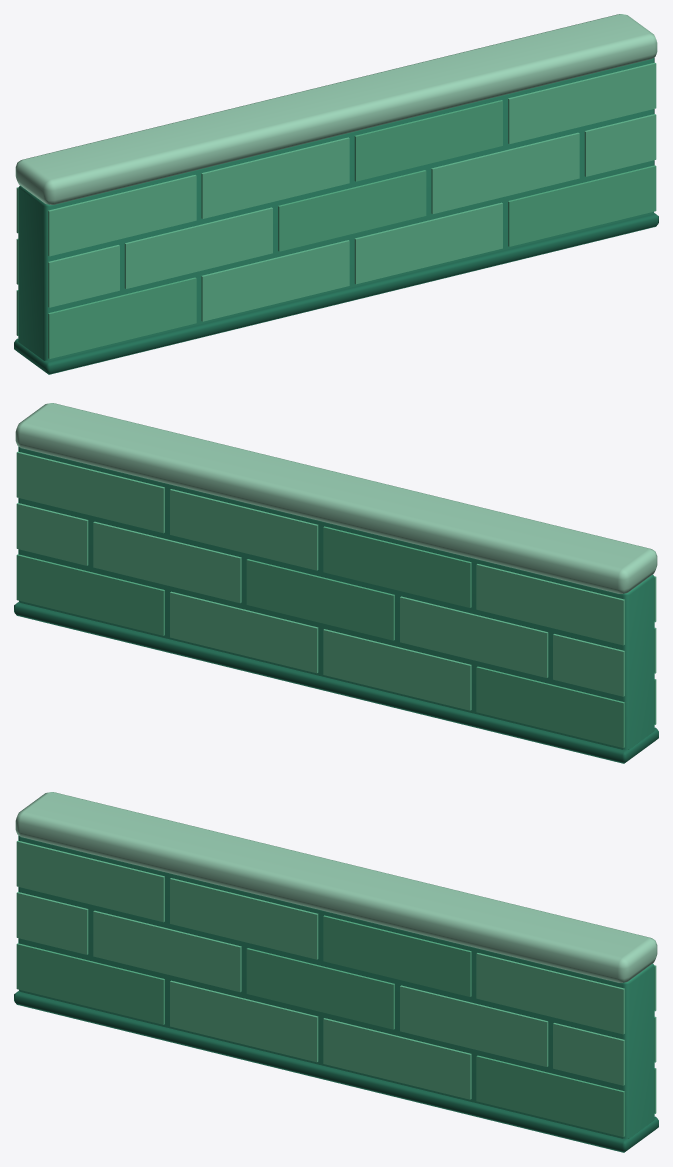
Rendered from mint-wall2.glb.
3 views of the same model, one above another, from view 1: azimuth 30°, elevation 25°; view 2: azimuth 150°, elevation 25°; view 3: azimuth 330°, elevation 25° (orthographic).
Visible parts, largest first — view 1: mint-wall2; view 2: mint-wall2; view 3: mint-wall2.
Part boxes in pixels (x1,y1,x2,y2): mint-wall2: (14, 14, 658, 374); mint-wall2: (14, 403, 658, 763); mint-wall2: (14, 792, 658, 1152).
Bounding box in the file's own units: 4 × 1.2 × 0.4.
